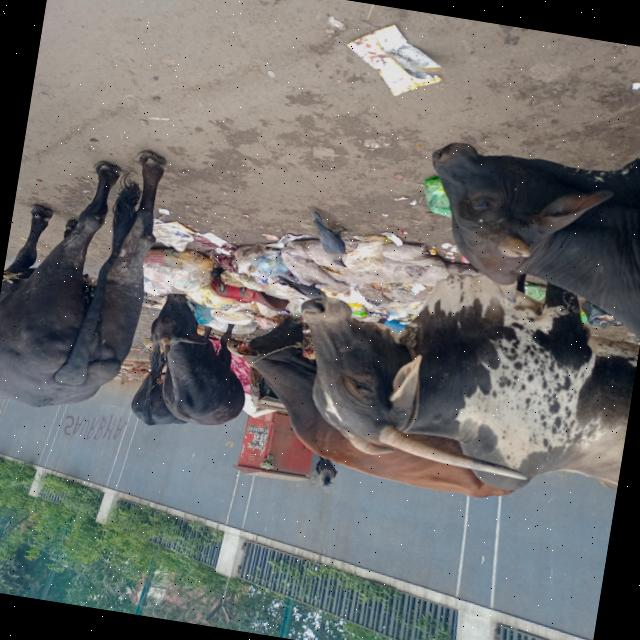garbage: (142, 200, 448, 358)
